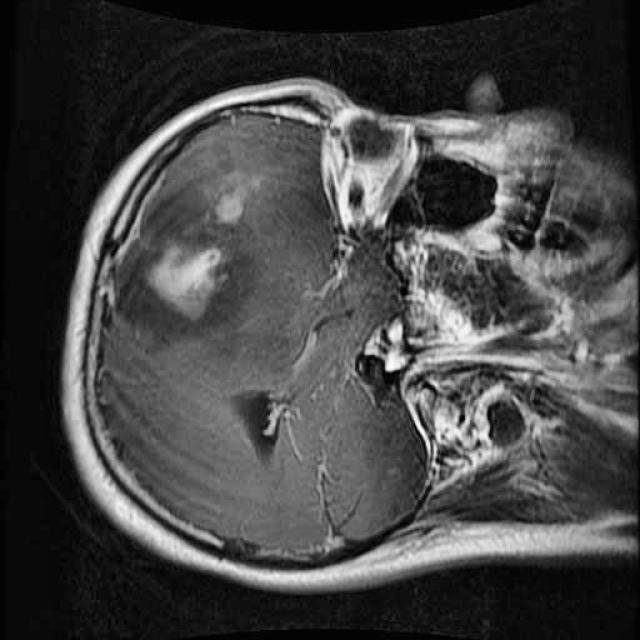Non-Tumor: (99, 145, 301, 361)
